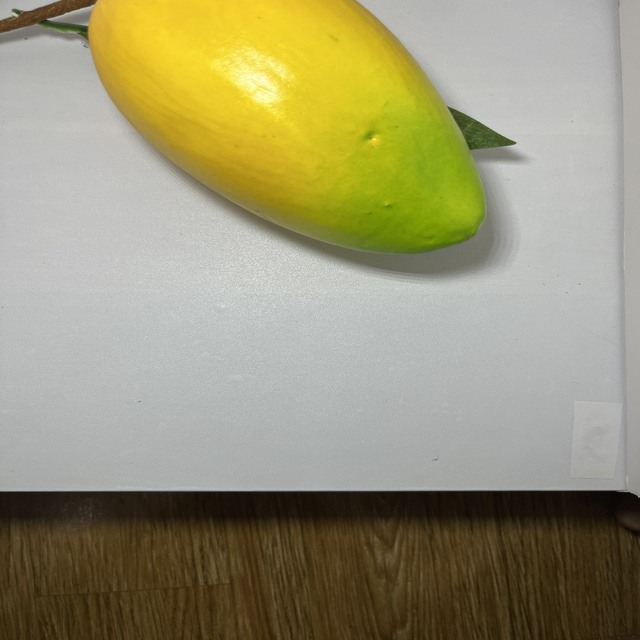Xoai: (81, 0, 492, 255)
